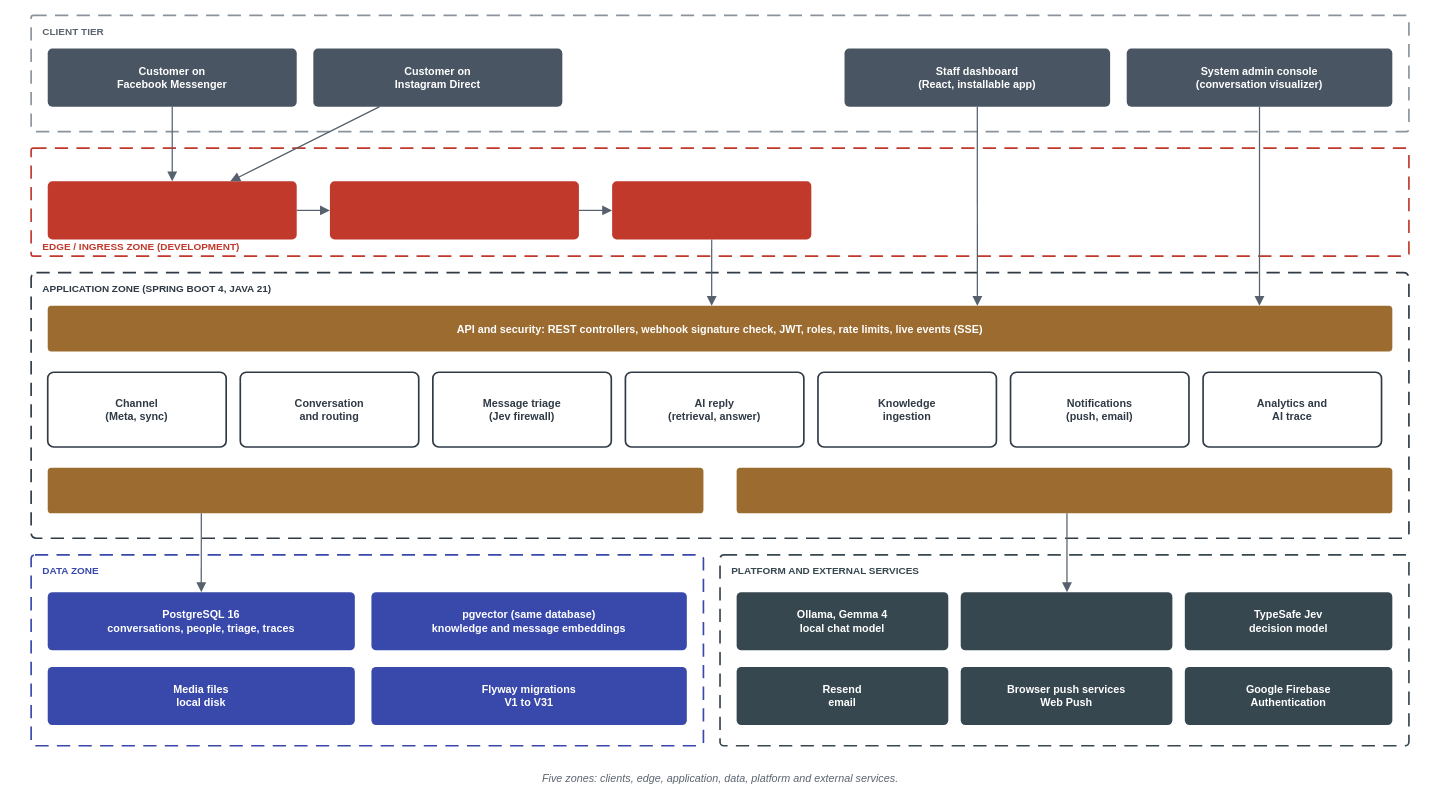
The diagram is 1439 pixels wide and 803 high, and some of its shapes have lost their labels. Here are the shapes that lost their labels. From the top down, the centre of each, then its label:
At pixel 171 210: "Meta Graph API webhooks, send API".
At pixel 454 210: "meta-proxy on Vercel the fixed URL Meta calls".
At pixel 711 210: "Pinggy tunnel and Upstash Redis".
At pixel 375 490: "After-commit reply pool · JPA and JDBC data access".
At pixel 1064 490: "Outbound clients: models, email, push, Google keys".
At pixel 1066 621: "OpenRouter embeddings".
